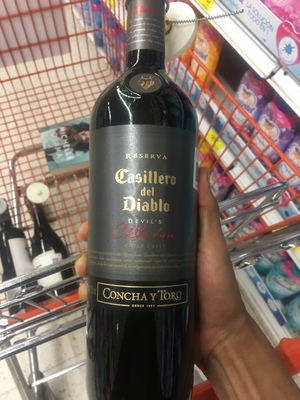casillero del diablo devils collection rojo: (82, 4, 210, 398)
